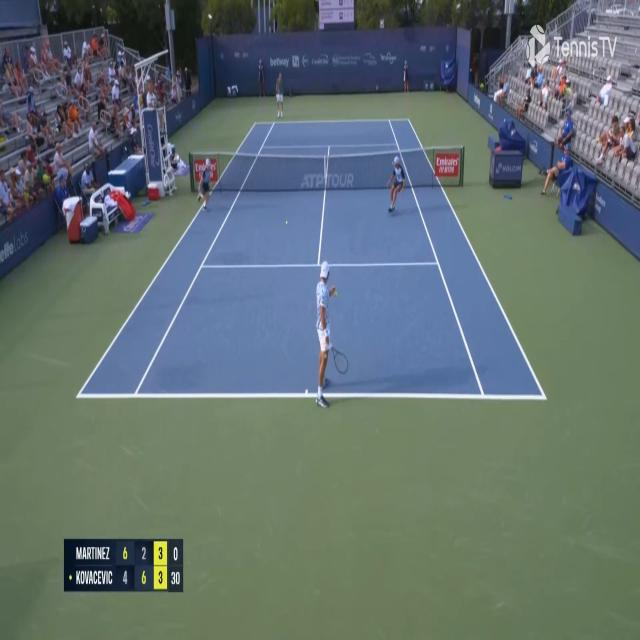tennis-player: (313, 262, 348, 412), (274, 68, 286, 118)
